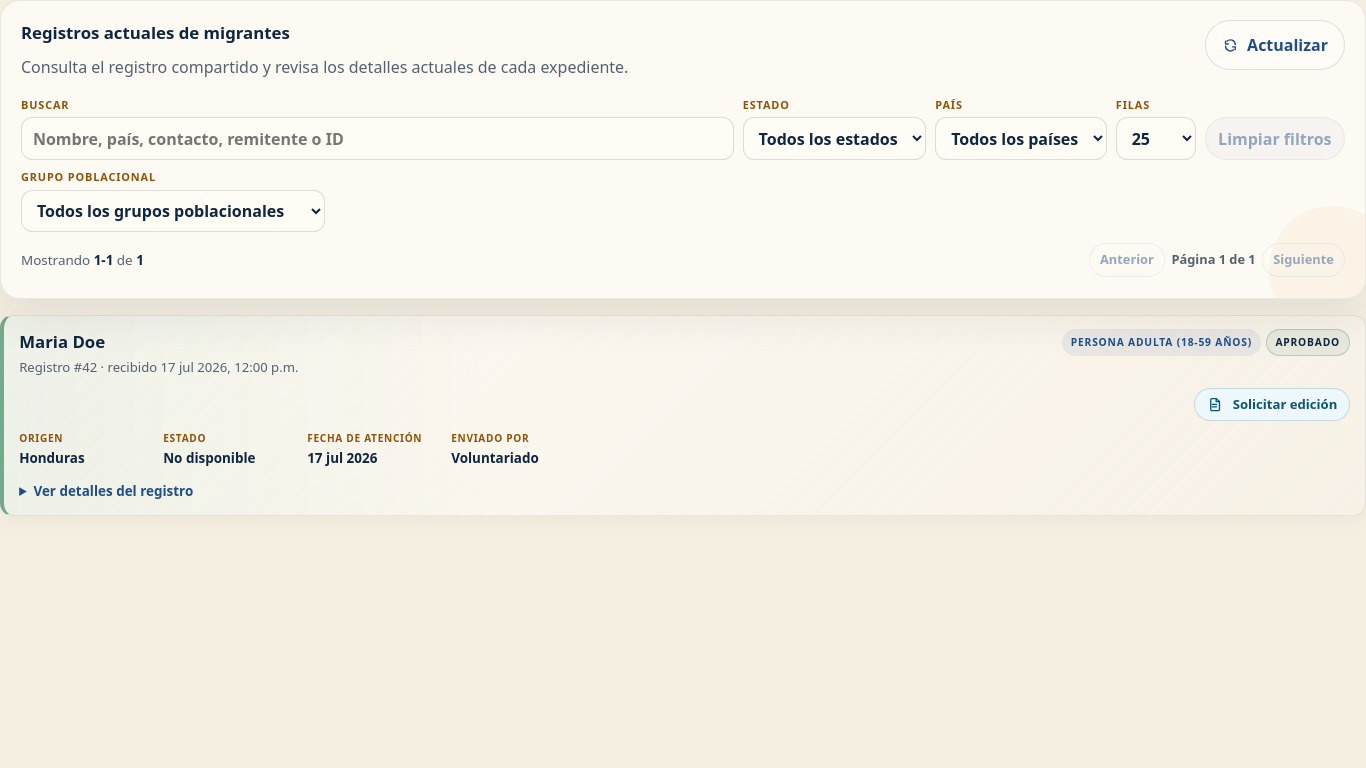
Test: MigrantRegistrationsPage › loads document metadata without exposing downloads to a non-coordinator
Expected: the heading "Maria Doe" is shown, left=19, top=330, right=105, bottom=353
Click the heading "Ver detalles del registro". click: (106, 492)
box: left=19, top=481, right=193, bottom=502
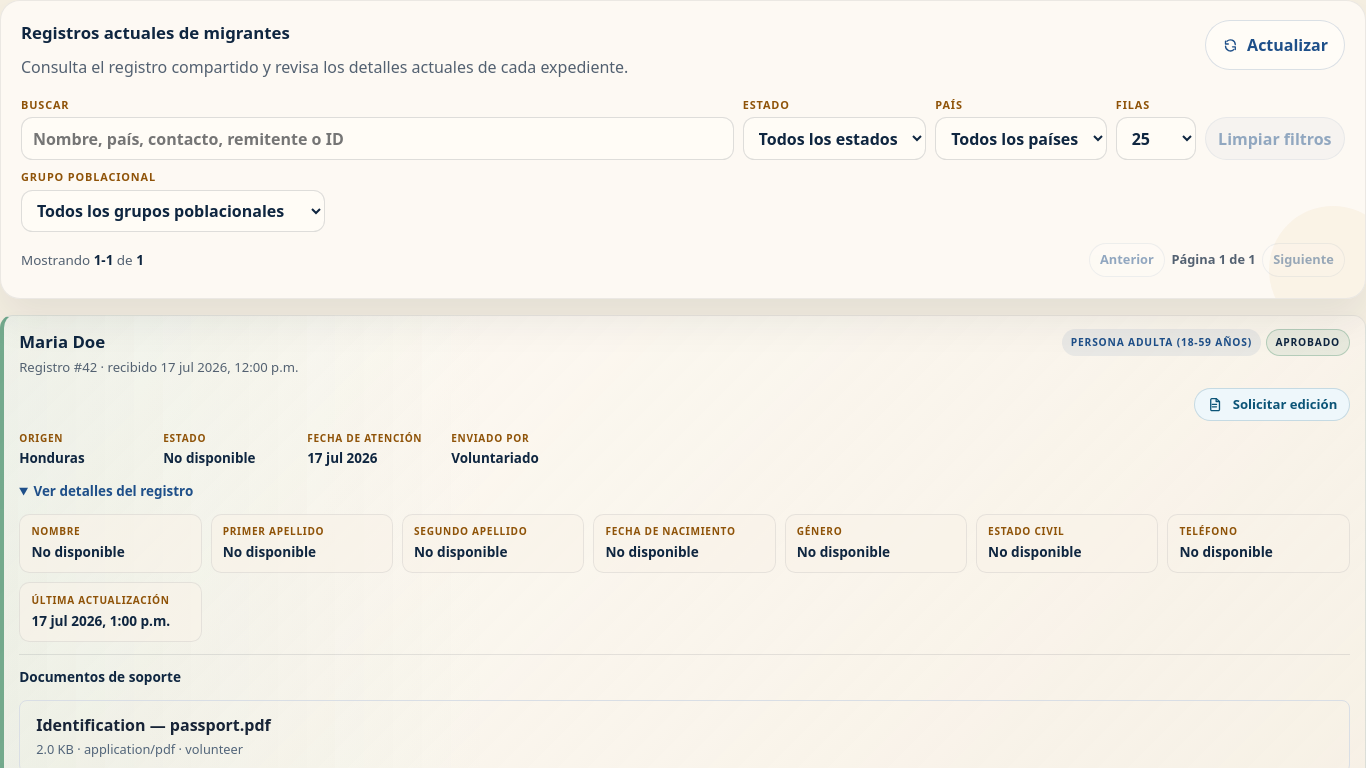
Expected: the text "Identification — passport.pdf" is shown, left=36, top=714, right=271, bottom=736
